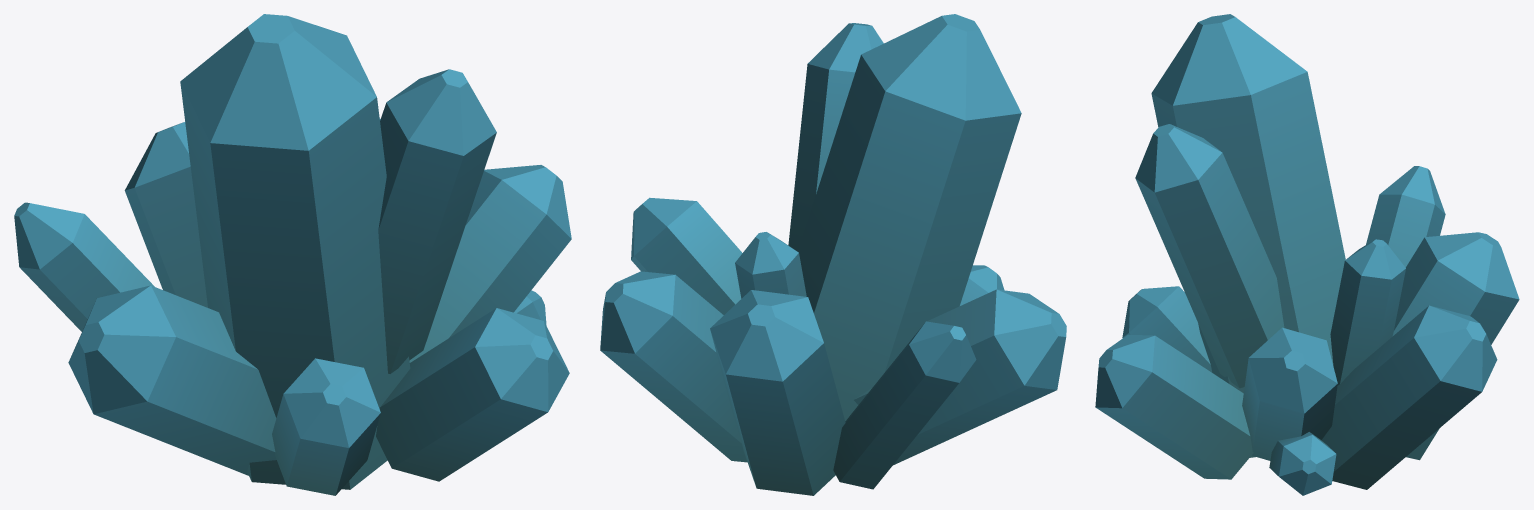
File: CrystalCluster_Medium4.fbx
3 renders of one model, left to right at view 1: azimuth 30°, elevation 25°; view 2: azimuth 150°, elevation 25°; view 3: azimuth 270°, elevation 25°, orthographic. The views are drawn at different scales.
Visible parts, largest first — view 1: CrystalCluster_Medium4; view 2: CrystalCluster_Medium4; view 3: CrystalCluster_Medium4.
Part boxes in pixels (<box>): CrystalCluster_Medium4: <box>14,14,571,495</box>; CrystalCluster_Medium4: <box>600,14,1066,495</box>; CrystalCluster_Medium4: <box>1095,14,1519,495</box>.
Size of the model in its own units: 194 by 192 by 178.
